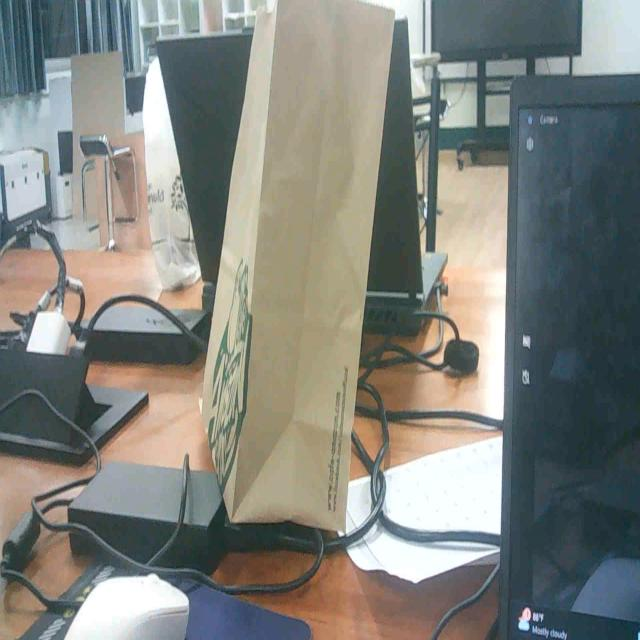bag: (195, 0, 414, 552)
